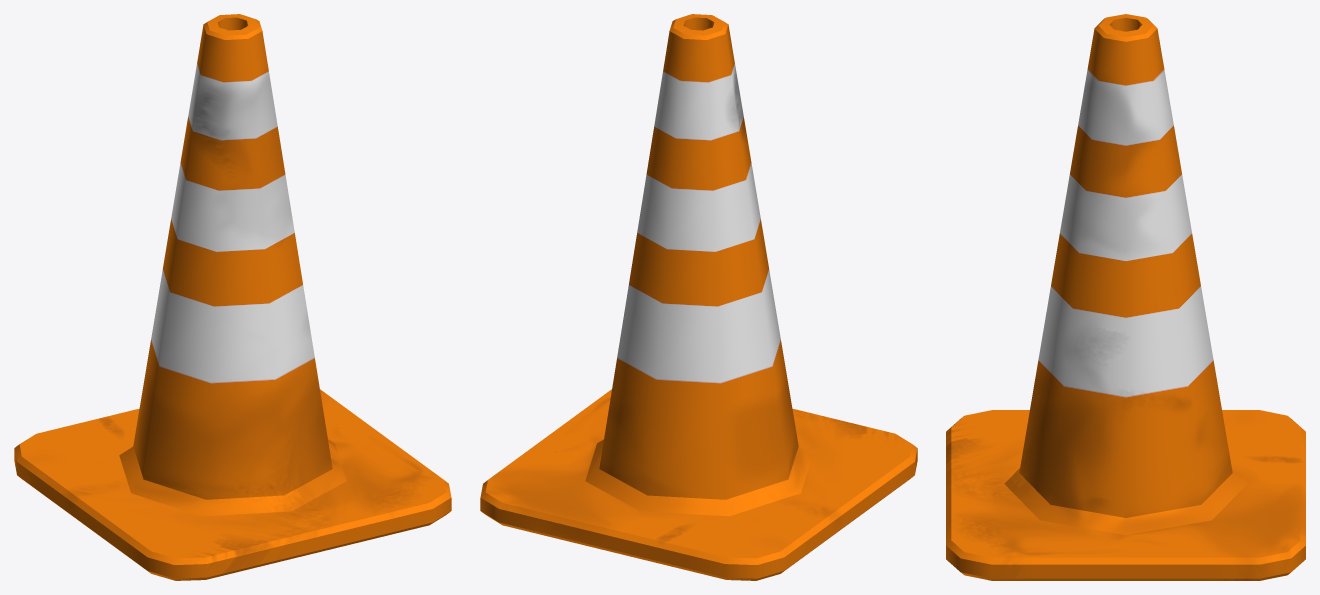
The model's file is sm_trafficCone_GEO 1.fbx.
3 renders of one model, left to right at view 1: azimuth 30°, elevation 25°; view 2: azimuth 150°, elevation 25°; view 3: azimuth 270°, elevation 25°, orthographic. The views are drawn at different scales.
Visible parts, largest first — view 1: trafficCone_GEO; view 2: trafficCone_GEO; view 3: trafficCone_GEO.
Part boxes in pixels (x1,y1,x2,y2): trafficCone_GEO: (14,14,451,580); trafficCone_GEO: (480,14,917,580); trafficCone_GEO: (946,14,1305,580).
Size of the model in its own units: 70 by 104 by 70.
Materials: 1 (1 with a texture image).
